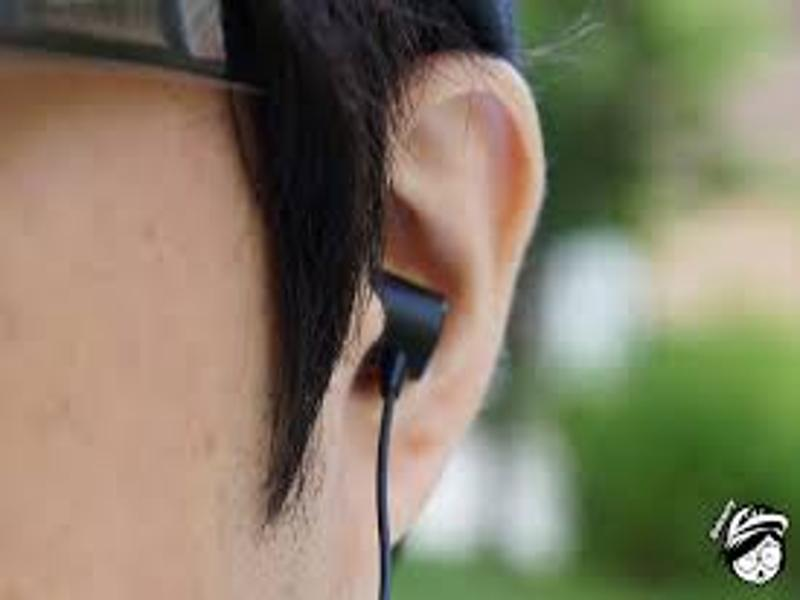headphone: (361, 262, 450, 400)
